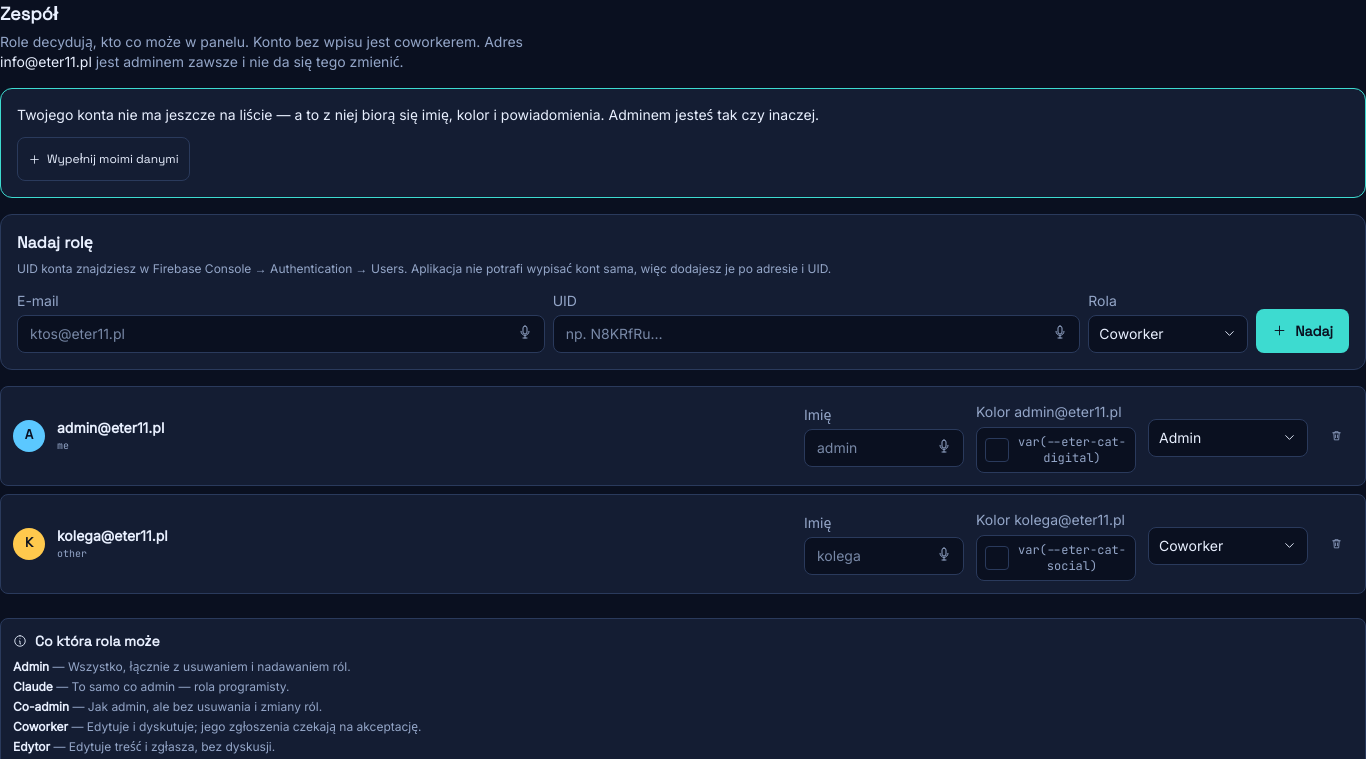
TeamPanel — trwałe usunięcie konta › nie zleca usunięcia własnego konta
Click the button named "Usuń konto admin@eter11.pl na stałe": (1336, 436) [1320,414,1353,458]
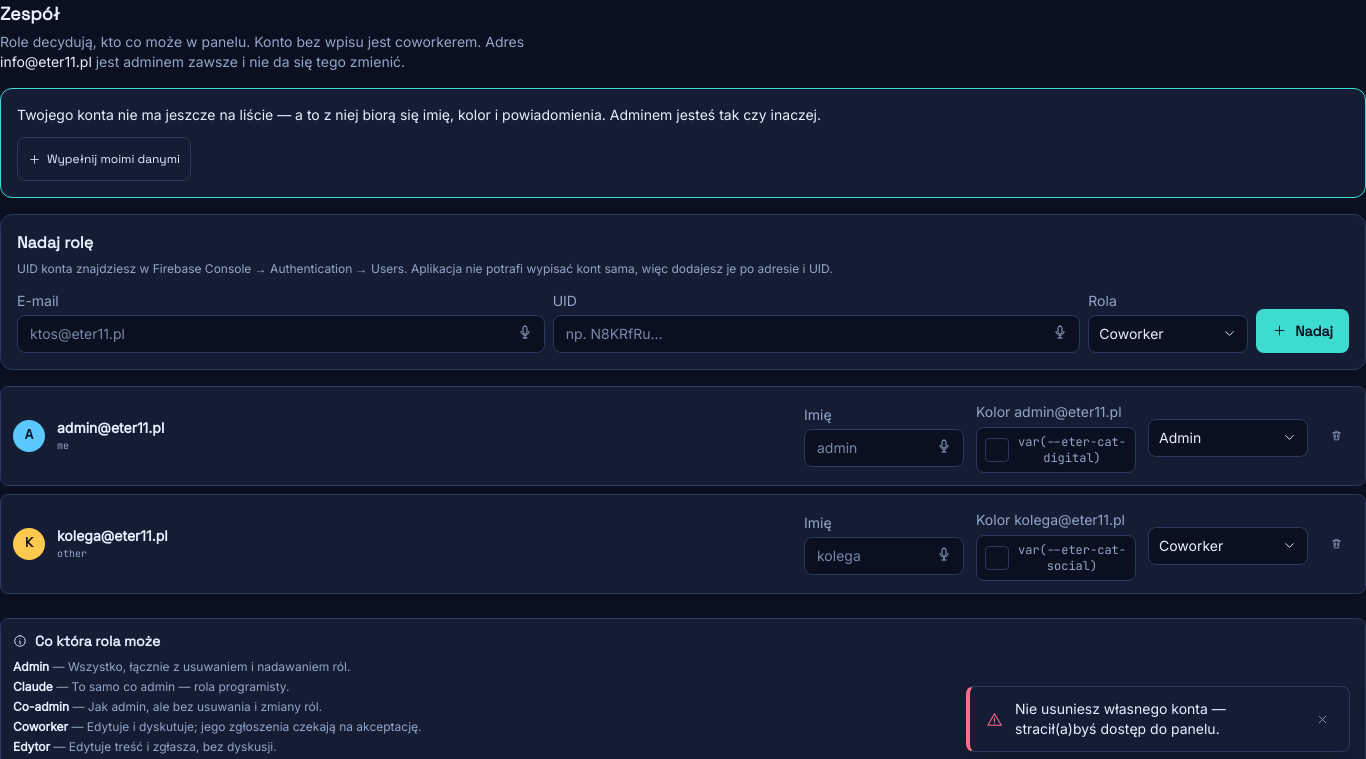
Expected: the text "własnego konta" is shown, [1015,700,1226,737]
